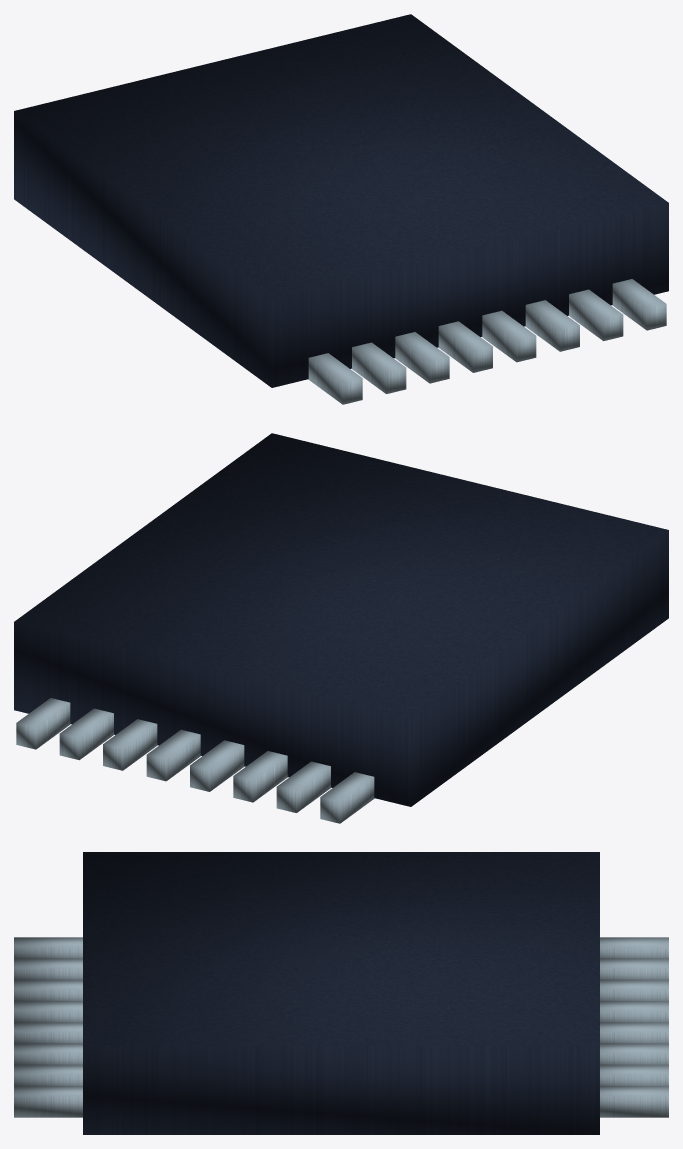
3 views of the same model, one above another, from view 1: azimuth 30°, elevation 25°; view 2: azimuth 150°, elevation 25°; view 3: azimuth 270°, elevation 25° (orthographic).
Parts seen in each view (by area): view 1: Epoxy_Package_0__PSMAT__IC_Epoxy, GullWing_1_06_15__PSMAT__Tin_Leads, GullWing_1_05_14__PSMAT__Tin_Leads, GullWing_1_02_11__PSMAT__Tin_Leads, GullWing_1_07_16__PSMAT__Tin_Leads, GullWing_1_04_13__PSMAT__Tin_Leads, GullWing_1_03_12__PSMAT__Tin_Leads, GullWing_1_00_9__PSMAT__Tin_Leads, GullWing_1_01_10__PSMAT__Tin_Leads; view 2: Epoxy_Package_0__PSMAT__IC_Epoxy, GullWing__1_06_7__PSMAT__Tin_Leads, GullWing__1_05_6__PSMAT__Tin_Leads, GullWing__1_02_3__PSMAT__Tin_Leads, GullWing__1_07_8__PSMAT__Tin_Leads, GullWing__1_04_5__PSMAT__Tin_Leads, GullWing__1_03_4__PSMAT__Tin_Leads, GullWing__1_00_1__PSMAT__Tin_Leads, GullWing__1_01_2__PSMAT__Tin_Leads; view 3: Epoxy_Package_0__PSMAT__IC_Epoxy, GullWing_1_07_16__PSMAT__Tin_Leads, GullWing__1_07_8__PSMAT__Tin_Leads, GullWing_1_06_15__PSMAT__Tin_Leads, GullWing_1_05_14__PSMAT__Tin_Leads, GullWing_1_04_13__PSMAT__Tin_Leads, GullWing_1_03_12__PSMAT__Tin_Leads, GullWing_1_02_11__PSMAT__Tin_Leads, GullWing_1_01_10__PSMAT__Tin_Leads, GullWing_1_00_9__PSMAT__Tin_Leads, GullWing__1_06_7__PSMAT__Tin_Leads, GullWing__1_05_6__PSMAT__Tin_Leads (+5 smaller).
Part boxes in pixels (<box>): Epoxy_Package_0__PSMAT__IC_Epoxy: <box>14,14,668,387</box>; GullWing_1_06_15__PSMAT__Tin_Leads: <box>569,289,623,341</box>; GullWing_1_05_14__PSMAT__Tin_Leads: <box>525,300,579,351</box>; GullWing_1_02_11__PSMAT__Tin_Leads: <box>395,332,449,383</box>; GullWing_1_07_16__PSMAT__Tin_Leads: <box>612,279,666,330</box>; GullWing_1_04_13__PSMAT__Tin_Leads: <box>482,310,536,362</box>; GullWing_1_03_12__PSMAT__Tin_Leads: <box>438,321,492,372</box>; GullWing_1_00_9__PSMAT__Tin_Leads: <box>308,353,362,404</box>; GullWing_1_01_10__PSMAT__Tin_Leads: <box>352,342,406,393</box>; Epoxy_Package_0__PSMAT__IC_Epoxy: <box>14,433,668,806</box>; GullWing__1_06_7__PSMAT__Tin_Leads: <box>59,708,113,760</box>; GullWing__1_05_6__PSMAT__Tin_Leads: <box>103,719,157,770</box>; GullWing__1_02_3__PSMAT__Tin_Leads: <box>233,751,287,802</box>; GullWing__1_07_8__PSMAT__Tin_Leads: <box>16,698,70,749</box>; GullWing__1_04_5__PSMAT__Tin_Leads: <box>146,729,200,781</box>; GullWing__1_03_4__PSMAT__Tin_Leads: <box>190,740,244,791</box>; GullWing__1_00_1__PSMAT__Tin_Leads: <box>320,772,374,823</box>; GullWing__1_01_2__PSMAT__Tin_Leads: <box>276,761,330,812</box>; Epoxy_Package_0__PSMAT__IC_Epoxy: <box>83,852,599,1134</box>; GullWing_1_07_16__PSMAT__Tin_Leads: <box>14,1086,82,1117</box>; GullWing__1_07_8__PSMAT__Tin_Leads: <box>600,1086,668,1117</box>; GullWing_1_06_15__PSMAT__Tin_Leads: <box>14,1064,82,1085</box>; GullWing_1_05_14__PSMAT__Tin_Leads: <box>14,1043,82,1064</box>; GullWing_1_04_13__PSMAT__Tin_Leads: <box>14,1022,82,1043</box>; GullWing_1_03_12__PSMAT__Tin_Leads: <box>14,1001,82,1022</box>; GullWing_1_02_11__PSMAT__Tin_Leads: <box>14,979,82,1000</box>; GullWing_1_01_10__PSMAT__Tin_Leads: <box>14,958,82,979</box>; GullWing_1_00_9__PSMAT__Tin_Leads: <box>14,937,82,958</box>; GullWing__1_06_7__PSMAT__Tin_Leads: <box>600,1064,668,1085</box>; GullWing__1_05_6__PSMAT__Tin_Leads: <box>600,1043,668,1064</box>.
Size of the model in its own units: 0.008 by 0.00171 by 0.0114.
